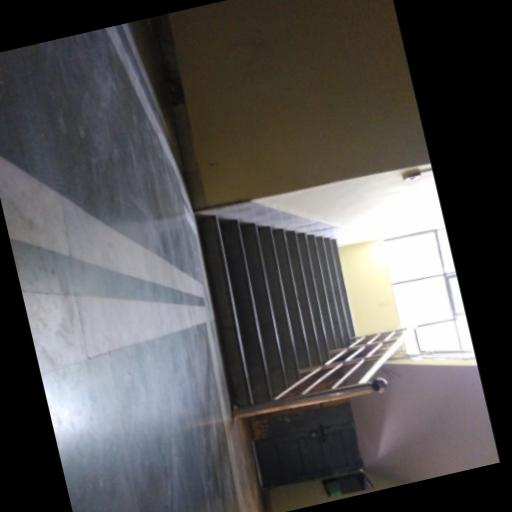stairs: (197, 217, 352, 406)
